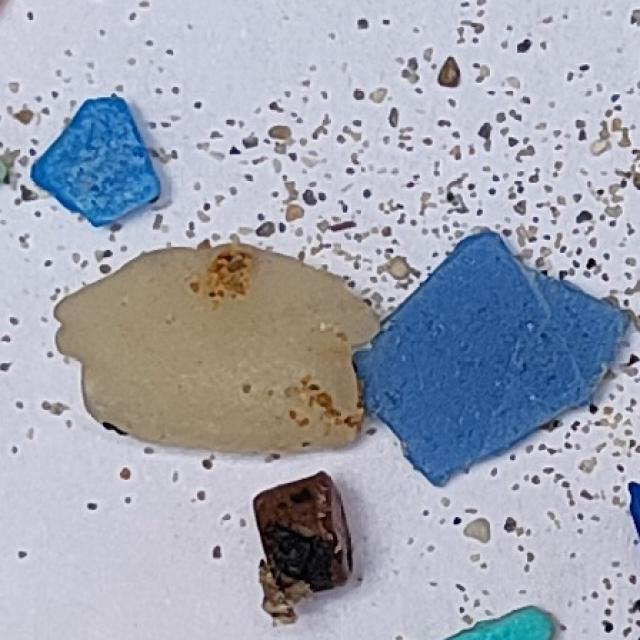fragments: (323, 201, 640, 532), (54, 239, 380, 453), (10, 81, 176, 250), (230, 467, 371, 631)
